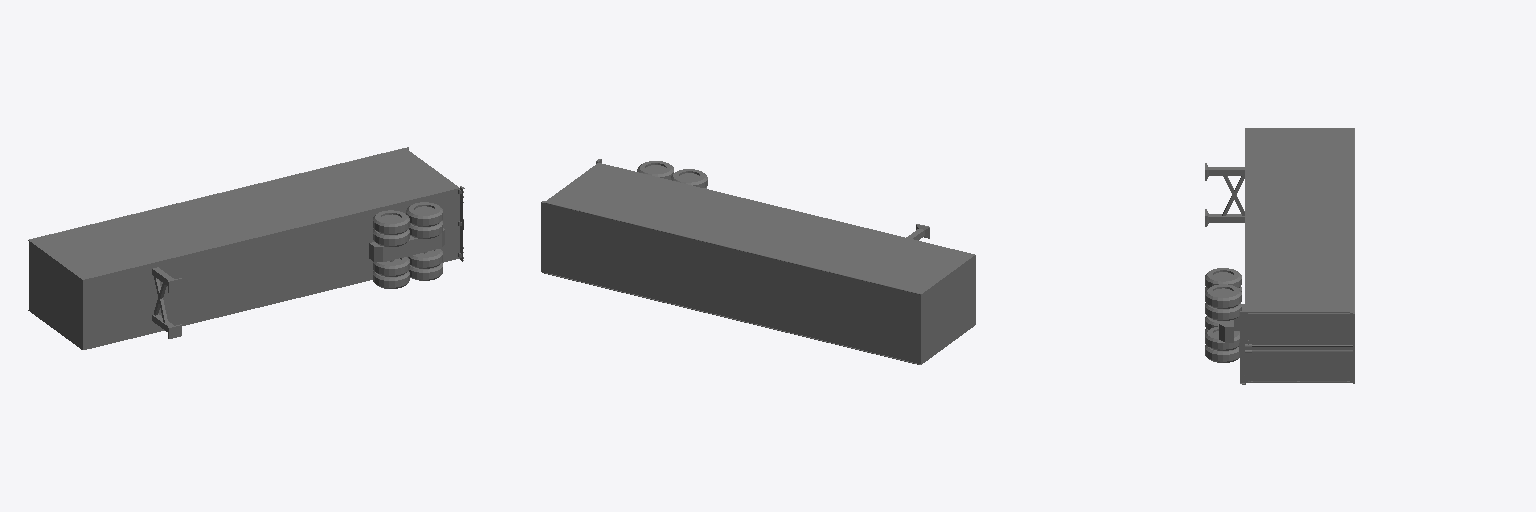
The model's file is truck trailer.obj.
3 views of the same model, side by side, from view 1: azimuth 30°, elevation 25°; view 2: azimuth 150°, elevation 25°; view 3: azimuth 270°, elevation 25° (orthographic).
Parts seen in each view (by area): view 1: door11; view 2: door11; view 3: door11.
Part boxes in pixels (left/top/right/bottom): door11: left=28, top=147, right=464, bottom=349; door11: left=541, top=159, right=975, bottom=364; door11: left=1205, top=128, right=1354, bottom=384.
Bounding box in the file's own units: 1413 × 259 × 484.